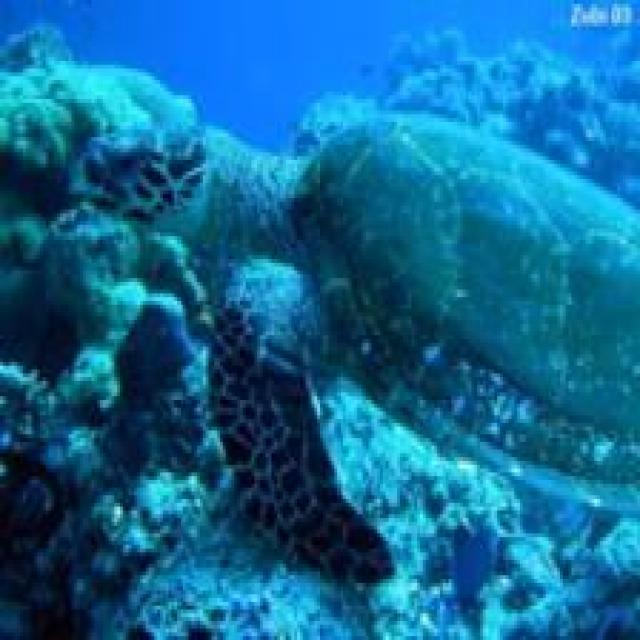Sea turtle: (89, 85, 640, 602)
